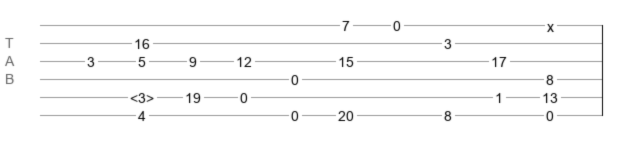0: (240, 90, 248, 100), (291, 72, 299, 82), (291, 108, 299, 118), (393, 18, 401, 28), (546, 108, 554, 118)
1: (495, 90, 503, 100)
12: (236, 54, 252, 64)
13: (542, 90, 558, 100)
15: (338, 54, 354, 64)
16: (134, 36, 150, 46)
17: (491, 54, 507, 64)
19: (185, 90, 201, 100)
20: (338, 108, 354, 118)
3: (87, 54, 95, 64), (444, 36, 452, 46)
4: (138, 108, 146, 118)
5: (138, 54, 146, 64)
7: (342, 18, 350, 28)
8: (444, 108, 452, 118), (546, 72, 554, 82)
9: (189, 54, 197, 64)
harmonic: (130, 90, 154, 100)
x: (547, 19, 554, 27)
